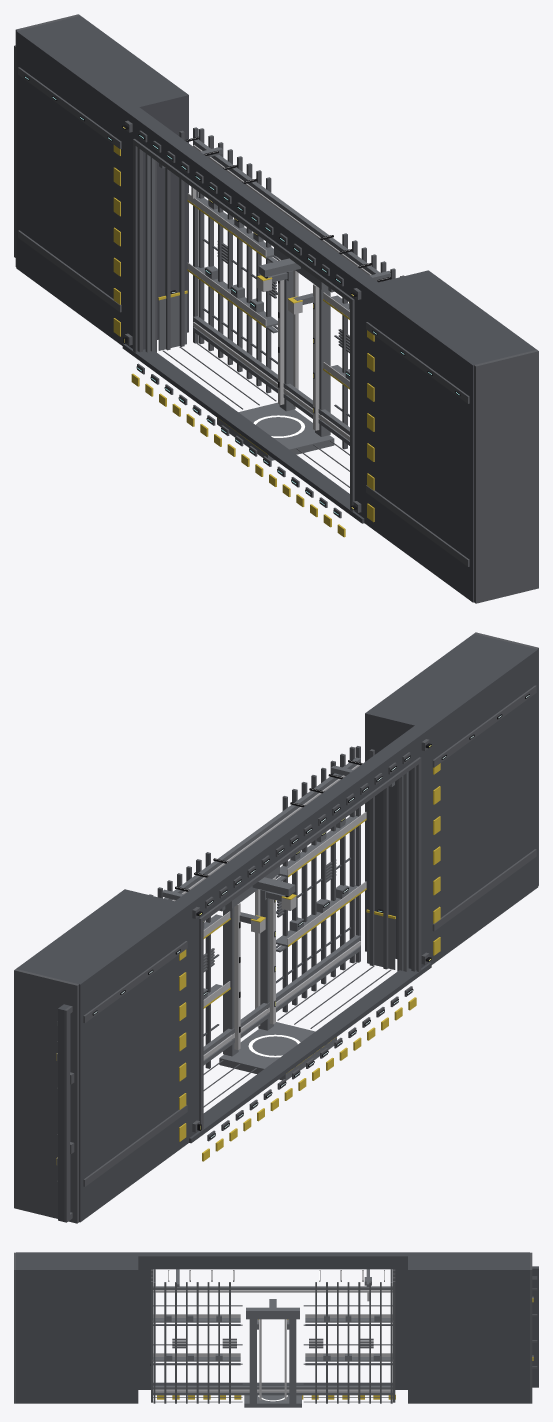
File: dock_rig.glb
3 views of the same model, one above another, from view 1: azimuth 30°, elevation 25°; view 2: azimuth 150°, elevation 25°; view 3: azimuth 270°, elevation 25° (orthographic). The views are drawn at different scales.
Visible parts, largest first — view 1: mouth, frame; view 2: mouth, frame, door; view 3: mouth, frame, door.
Boxes of the visible parts, x1,y1,x2,y2 form: mouth: [15, 14, 538, 603]; frame: [137, 127, 404, 487]; mouth: [14, 632, 538, 1223]; frame: [149, 746, 416, 1107]; door: [56, 1004, 74, 1222]; mouth: [14, 1252, 532, 1403]; frame: [150, 1269, 395, 1407]; door: [532, 1266, 538, 1387].
Size of the model in its own units: 12.96 by 45.4 by 146.
